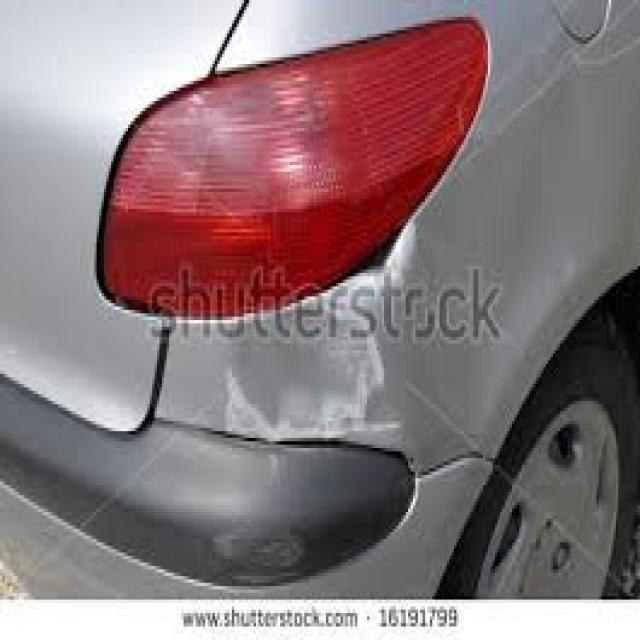minor: (119, 183, 554, 522)
